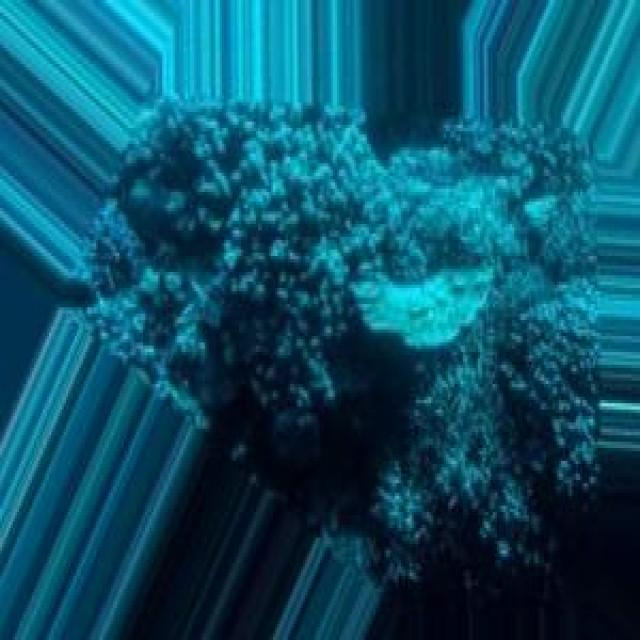Healthy: (88, 107, 411, 468), (336, 126, 598, 571)
